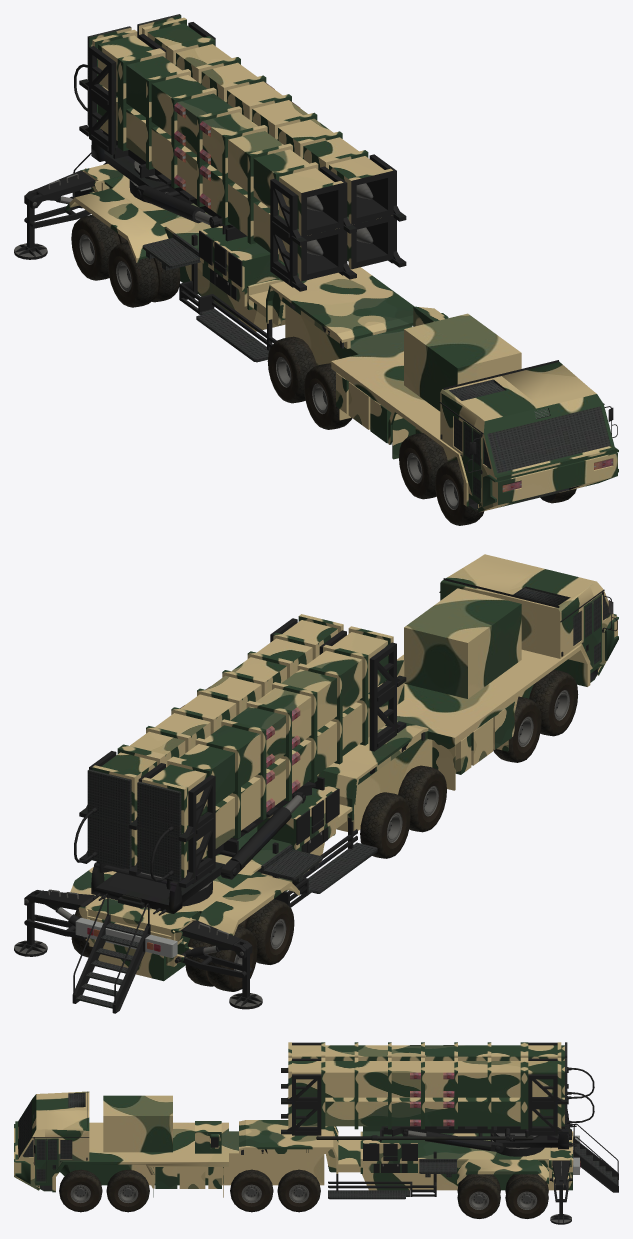
The model's file is 导弹车.gltf.
The picture shows the model from 3 angles, top to bottom: view 1: azimuth 30°, elevation 25°; view 2: azimuth 150°, elevation 25°; view 3: azimuth 270°, elevation 25°; orthographic projection. The views are drawn at different scales.
Parts seen in each view (by area): view 1: aiguozhehuojianche, paotai, muyagan, zhuantai; view 2: aiguozhehuojianche, paotai, zhuantai, muyagan; view 3: aiguozhehuojianche, paotai, tianxian, zhuantai, muyagan.
Boxes of the visible parts, bbox=[...] form: aiguozhehuojianche: bbox=[14, 152, 618, 525]; paotai: bbox=[74, 14, 406, 291]; muyagan: bbox=[135, 185, 205, 223]; zhuantai: bbox=[91, 129, 175, 192]; aiguozhehuojianche: bbox=[14, 554, 618, 1013]; paotai: bbox=[74, 614, 406, 889]; zhuantai: bbox=[91, 862, 224, 915]; muyagan: bbox=[219, 807, 291, 879]; aiguozhehuojianche: bbox=[14, 1091, 618, 1224]; paotai: bbox=[281, 1042, 594, 1141]; tianxian: bbox=[316, 1129, 533, 1141]; zhuantai: bbox=[490, 1109, 576, 1149]; muyagan: bbox=[425, 1131, 503, 1152].
Bounding box in the file's own units: 58.68 × 49.03 × 193.
Materials: 1 (1 with a texture image).
